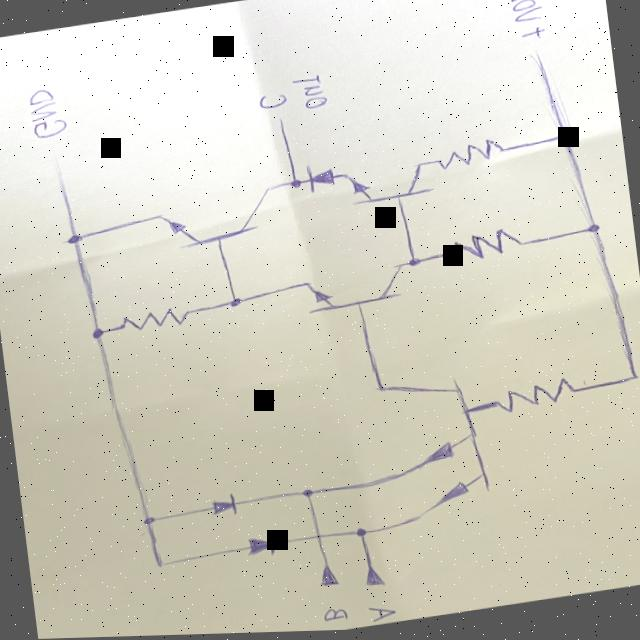crossover: (309, 532, 326, 545)
diode: (241, 530, 284, 564), (207, 490, 246, 522), (304, 162, 336, 195)
junction: (548, 127, 584, 150), (290, 483, 324, 507), (574, 222, 608, 245), (56, 228, 88, 250), (81, 321, 112, 343), (405, 255, 432, 275), (223, 293, 250, 312), (134, 512, 162, 530), (350, 527, 378, 544), (150, 555, 174, 573), (284, 178, 308, 193), (621, 372, 640, 390)
resistor: (439, 225, 532, 270), (490, 375, 584, 419), (434, 138, 511, 176), (114, 306, 194, 339)
terminal: (42, 148, 72, 188), (358, 560, 392, 595), (314, 562, 348, 595), (268, 115, 302, 146), (520, 51, 553, 78)
text: (22, 84, 72, 142), (290, 72, 330, 115), (497, 0, 549, 29), (362, 603, 404, 628), (318, 605, 355, 630), (255, 89, 289, 116), (514, 27, 550, 48)
transistor: (368, 362, 498, 534), (148, 184, 280, 258), (293, 264, 408, 325), (338, 157, 436, 211)
